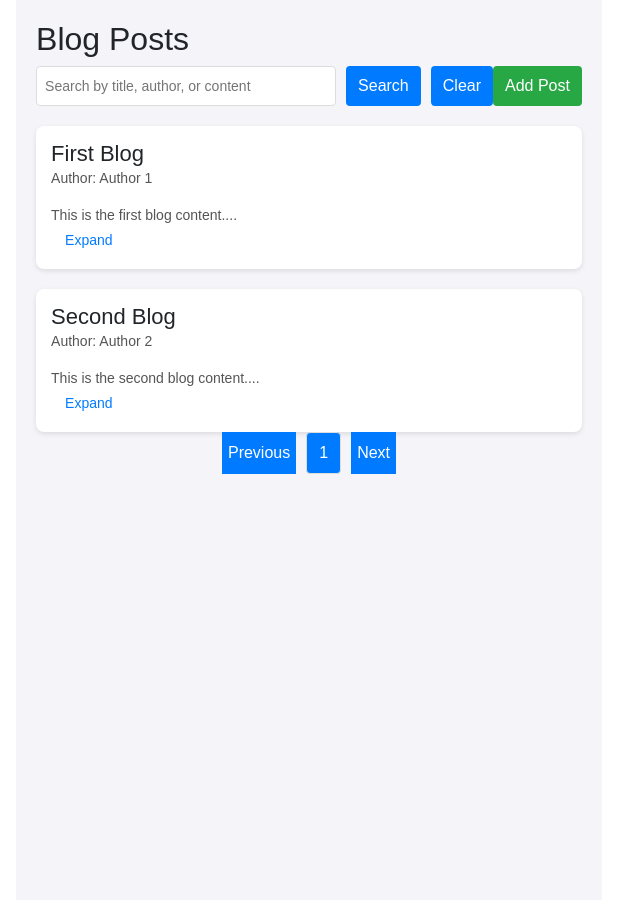
Scenario: Blogs Component › filters blog posts by search query
The image size is (619, 900).
Expected: the heading "First Blog" is shown, [51,141,144,166]
Perform search
In the field with placeholder "Search by title, author, or content": (186, 86) [36,66,336,106], type "First"
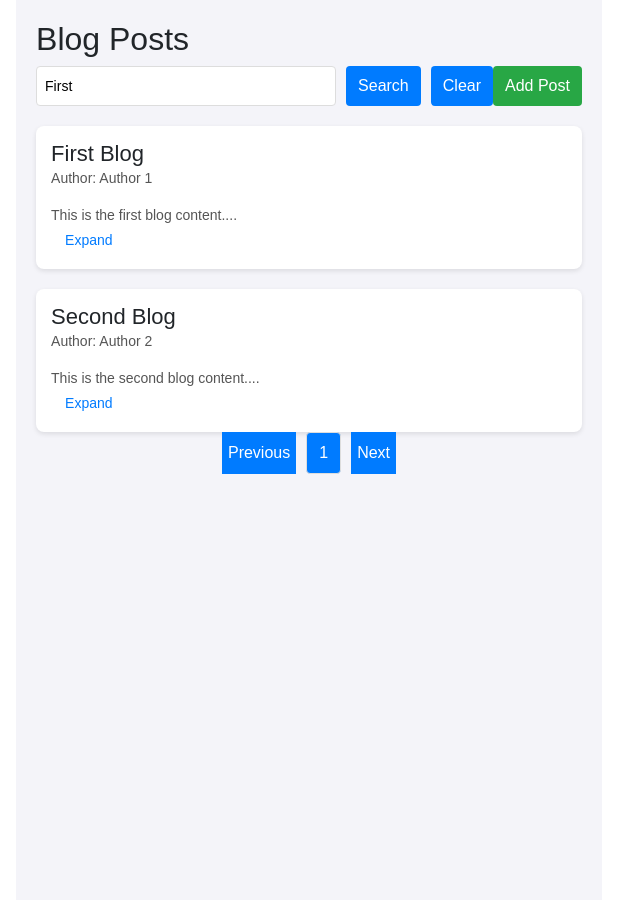
Click the button "Search": (383, 86) [346,66,421,106]
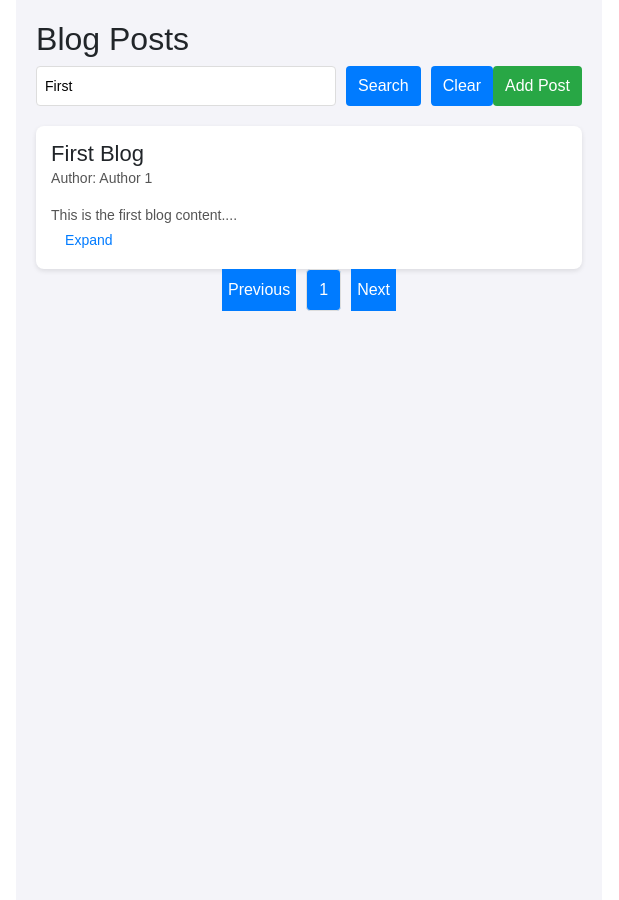
Expected: the heading "First Blog" is shown, [51,141,144,166]
Expected: the heading "Second Blog" is gone
